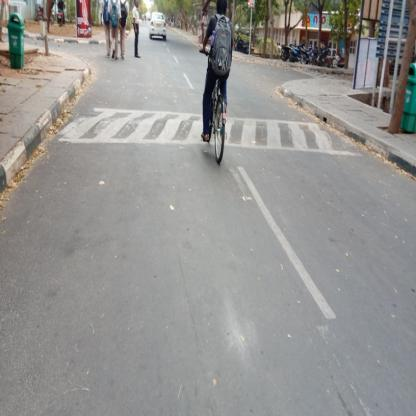speed-bumps: (55, 91, 201, 162), (230, 102, 366, 167)
